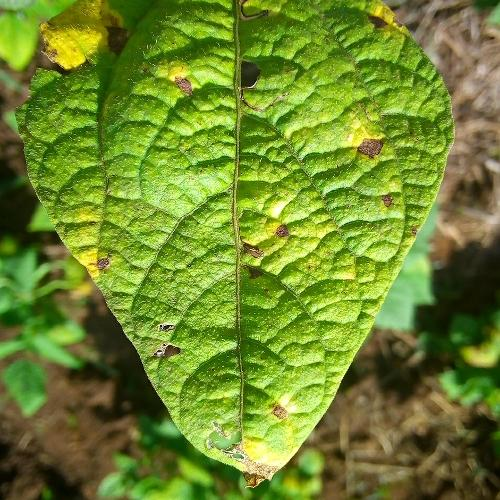hawar: (206, 388, 316, 484), (216, 50, 274, 132), (240, 218, 291, 291), (161, 62, 203, 104), (154, 320, 192, 366), (344, 128, 390, 164), (374, 0, 416, 38), (82, 248, 122, 272), (374, 185, 400, 219)
mozaik: (53, 130, 212, 232), (216, 304, 342, 359), (298, 229, 383, 284), (246, 152, 324, 204), (138, 250, 210, 302)
